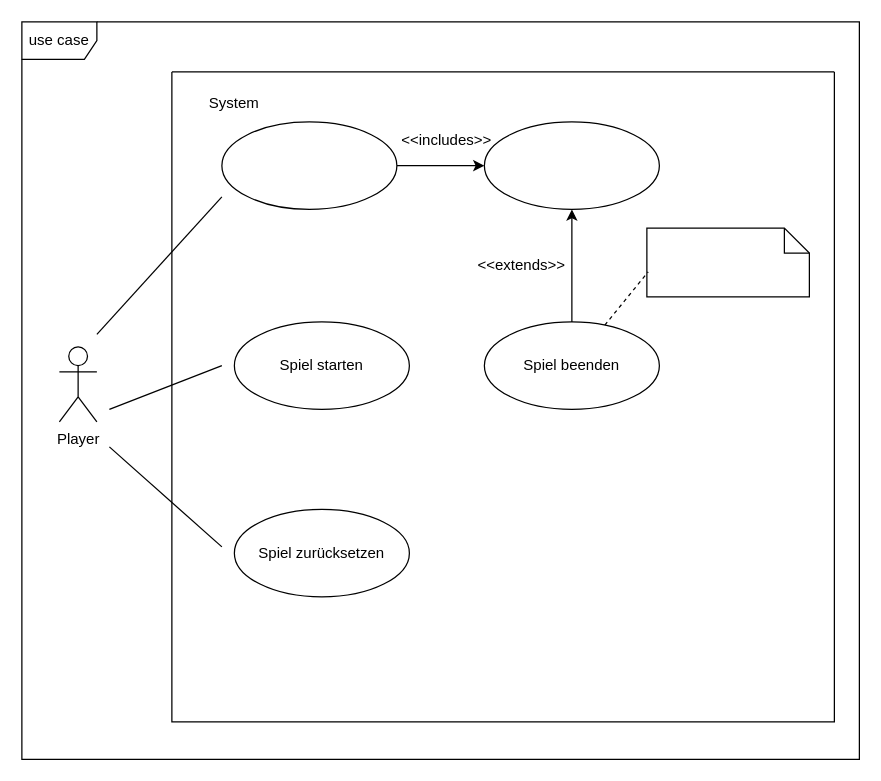
Image size: 881x781. Some labels were removed from this diagram. The centre of each missing label's shape, as x and y in pixels:
"Dreierblock oder Spielfeld voll" belongs at pixel 727 262.
"Regeln prüfen" belongs at pixel 571 165.
"Symbol setzen" belongs at pixel 309 165.
